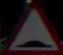Speed Breaker ahead: (11, 4, 57, 47)
